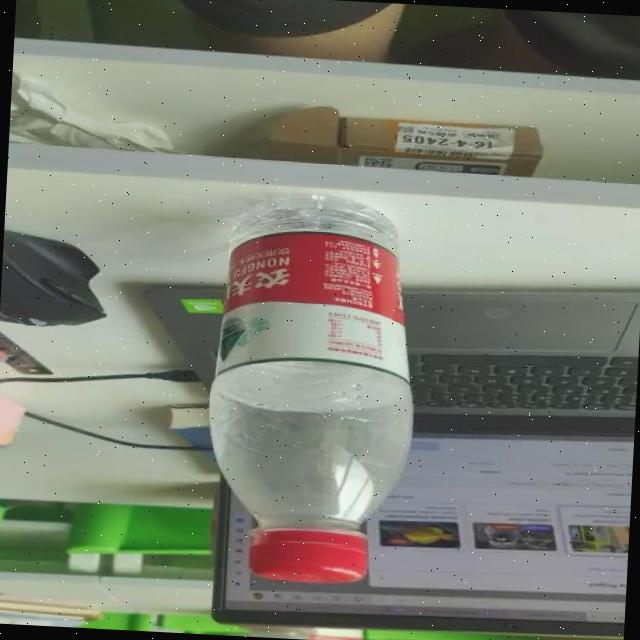bottle: (197, 185, 423, 592)
cap: (238, 524, 378, 590)
label: (206, 219, 432, 371)
